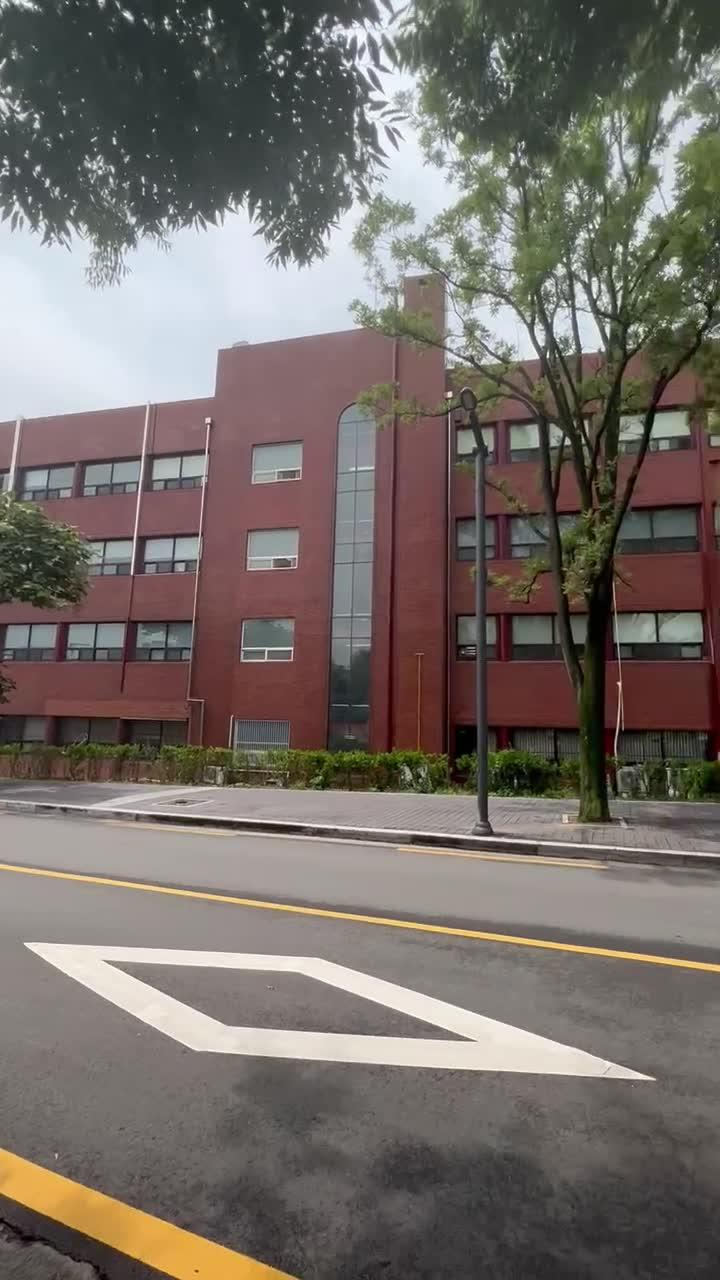building: (84, 340, 434, 750)
